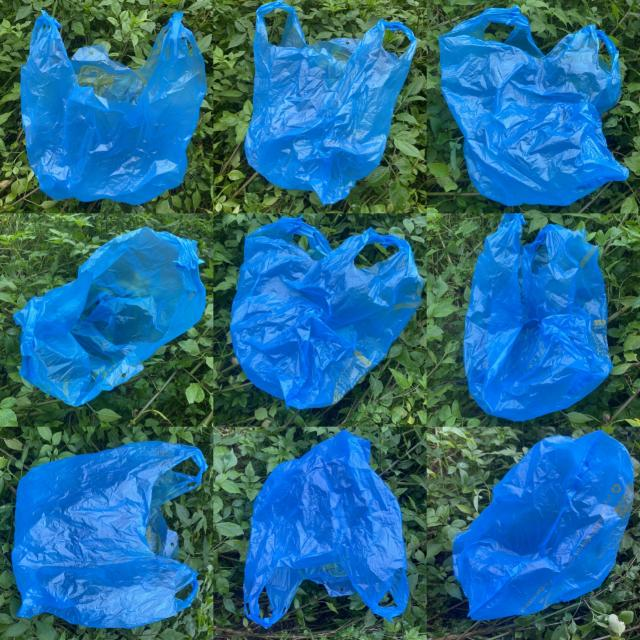Single-layer Plastic: (439, 6, 629, 206), (230, 218, 422, 409), (20, 11, 206, 204), (12, 441, 205, 627), (245, 0, 416, 204), (452, 431, 634, 620), (14, 228, 206, 406), (244, 431, 409, 628), (464, 214, 612, 421)
